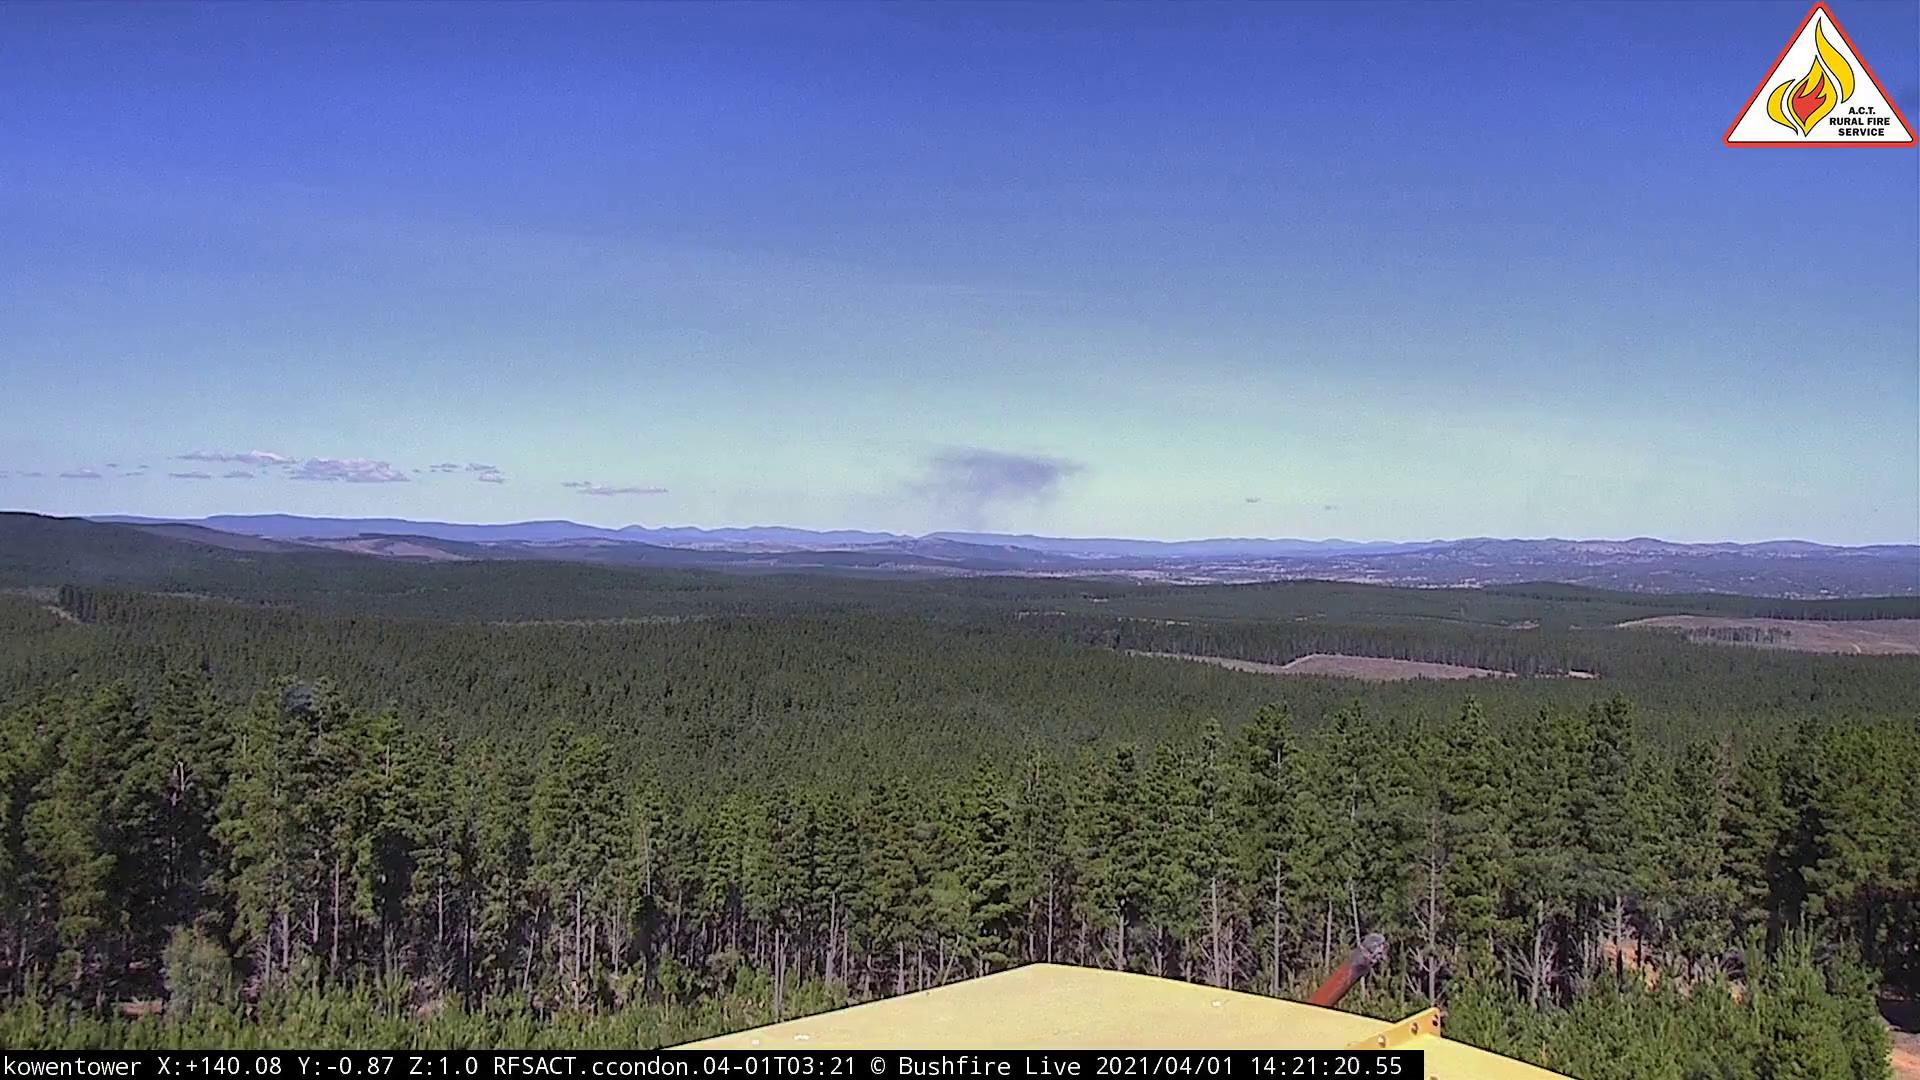Smoke: (882, 444, 1098, 574)
